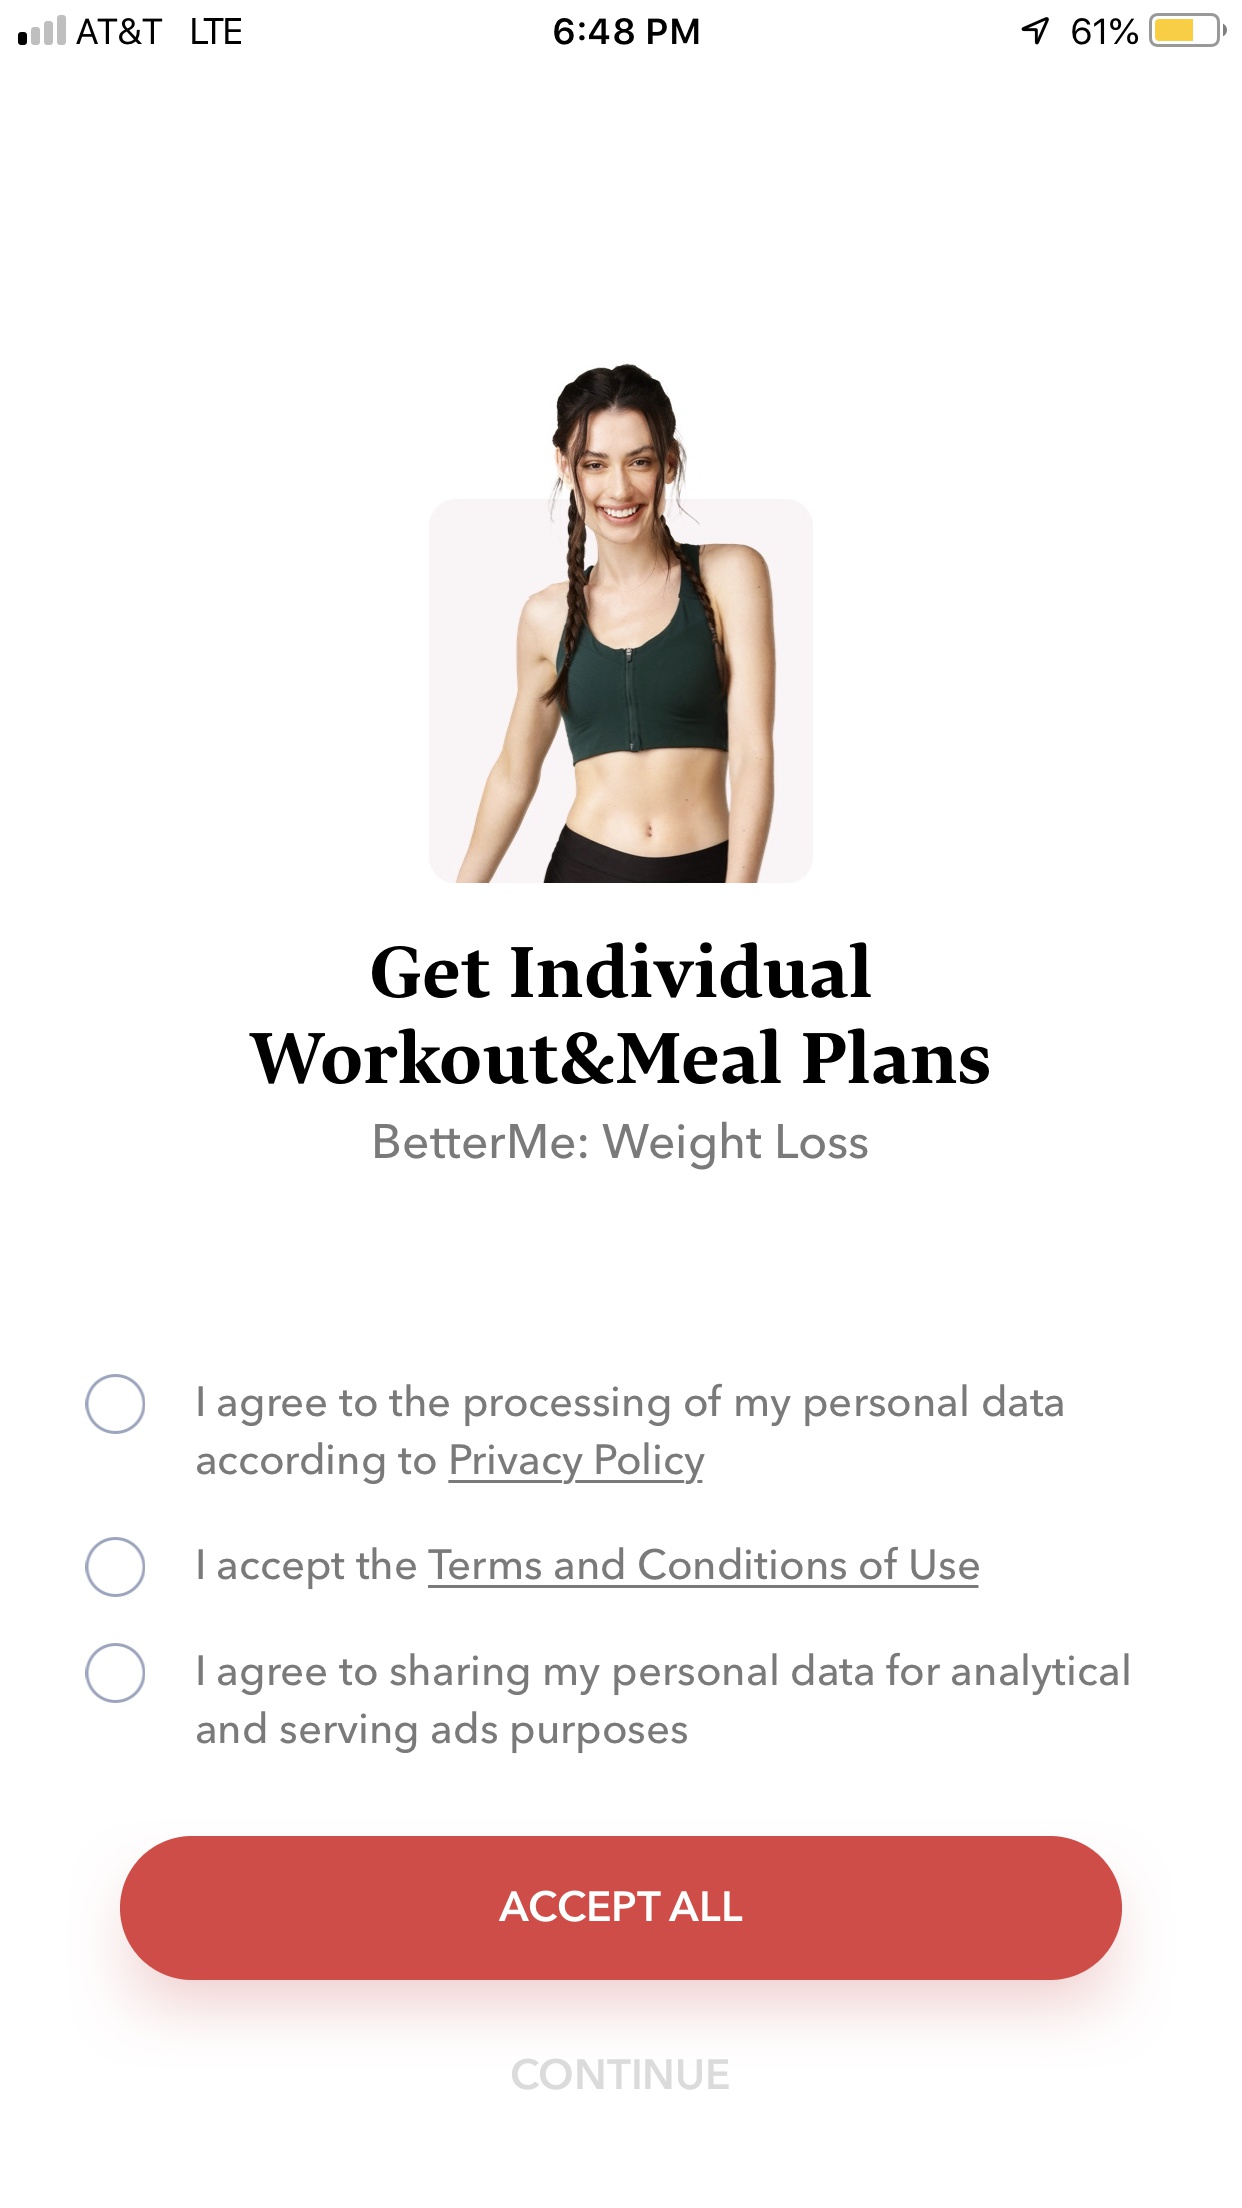CheckedTextView: (85, 1642, 1130, 1755), (85, 1374, 1065, 1485), (85, 1536, 980, 1598)
Image: (428, 364, 816, 886)
Text: (249, 942, 990, 1086), (197, 1651, 1130, 1755), (197, 1383, 1065, 1485), (199, 1545, 980, 1589), (375, 1121, 867, 1171), (513, 2056, 729, 2091)
TextButton: (120, 1835, 1124, 1981)
UpperTaskBar: (2, 2, 1242, 49)
